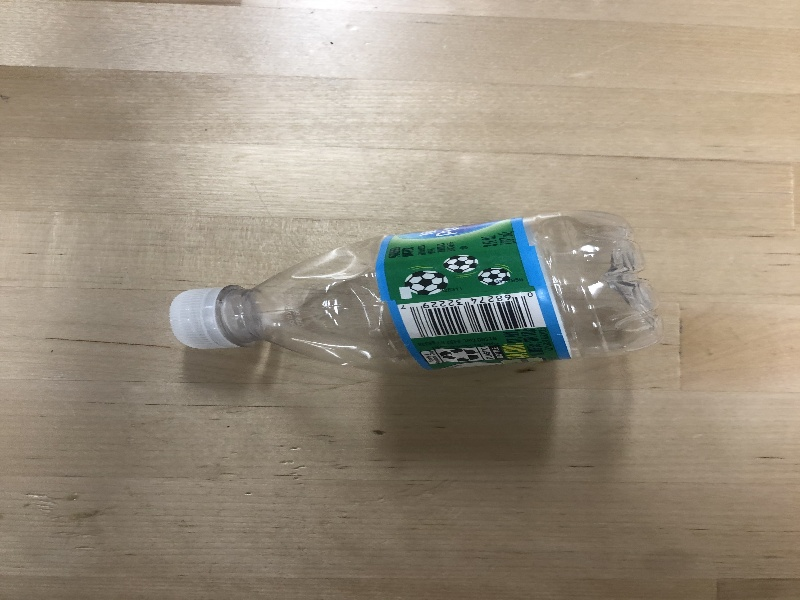plastic: (165, 210, 670, 382)
